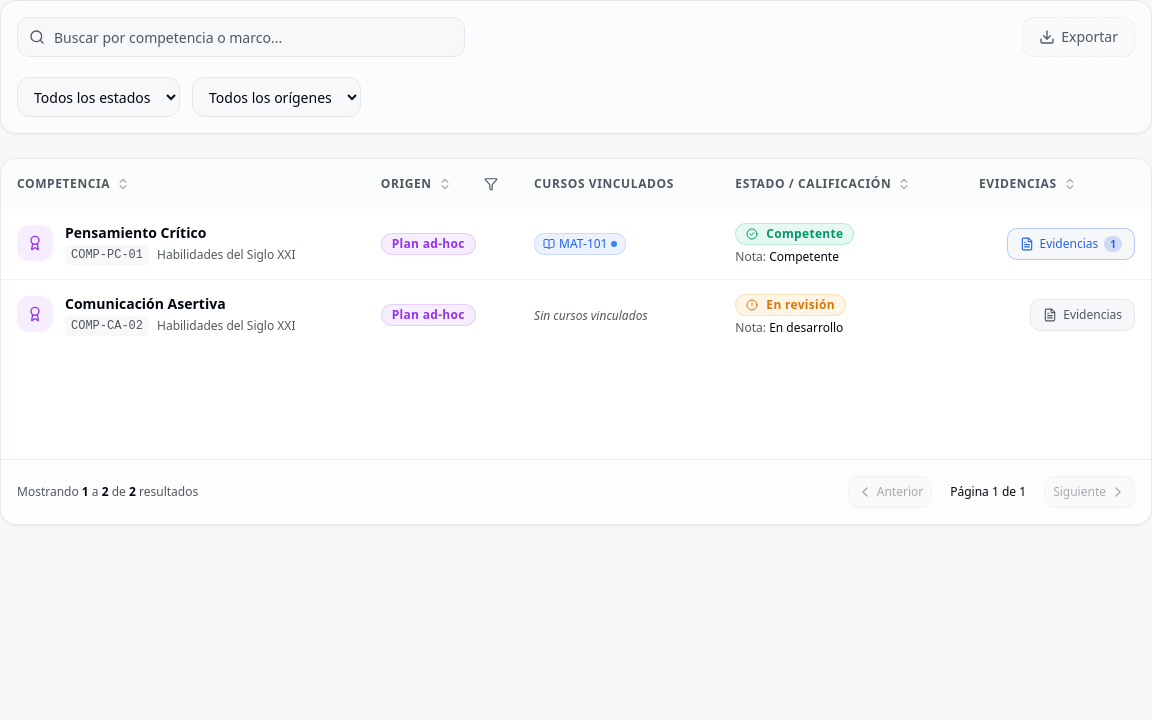
Test: Refactor Vista Detalle de Usuario › UserCompetenciesTab muestra cursos vinculados, estado y permite abrir modal de evidencias
Expected: the text "MAT-101" is shown, top-left (559, 236), bottom-right (608, 252)
Expected: the text "Competente" is shown, top-left (735, 223), bottom-right (854, 245)
// Click para abrir modal con evidencias
Step 1. Click the button "Evidencias 1" → coordinates (1071, 244), box top-left (1006, 228), bottom-right (1135, 260)
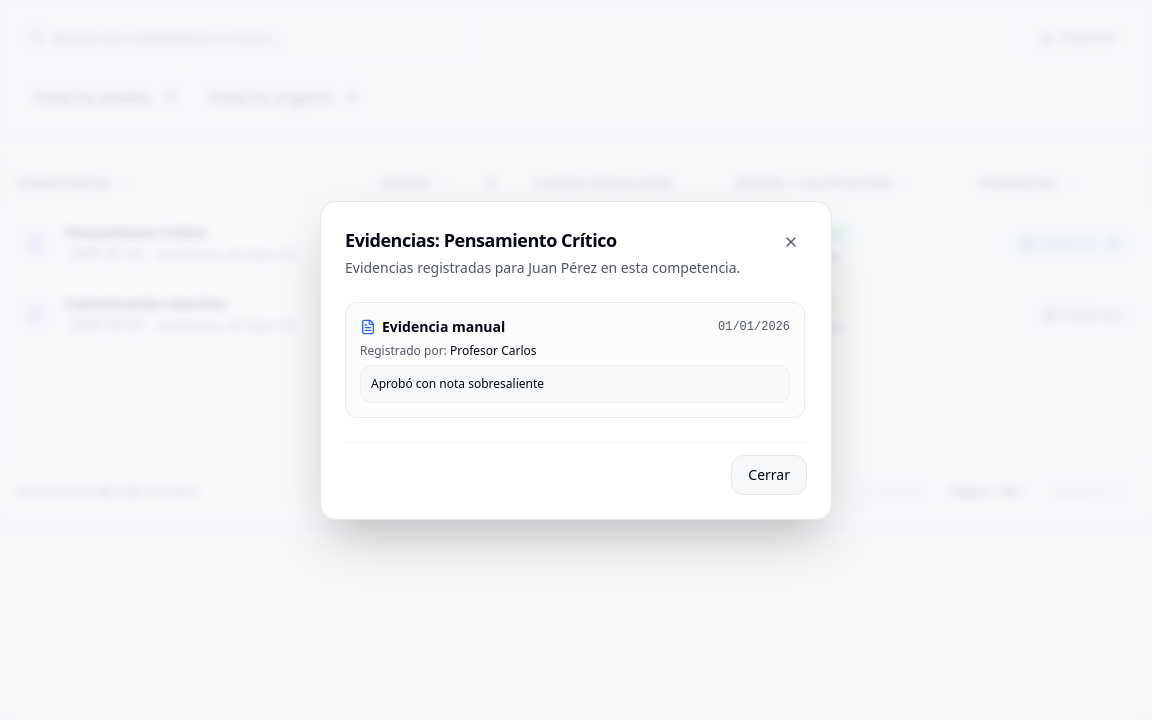
Expected: the text "Aprobó con nota sobresaliente" is shown, top-left (360, 364), bottom-right (790, 402)
Expected: the text "Profesor Carlos" is shown, top-left (450, 342), bottom-right (536, 358)
// Cerrar modal
Step 2. Click the button "Cerrar" → coordinates (769, 474), box top-left (731, 454), bottom-right (807, 494)
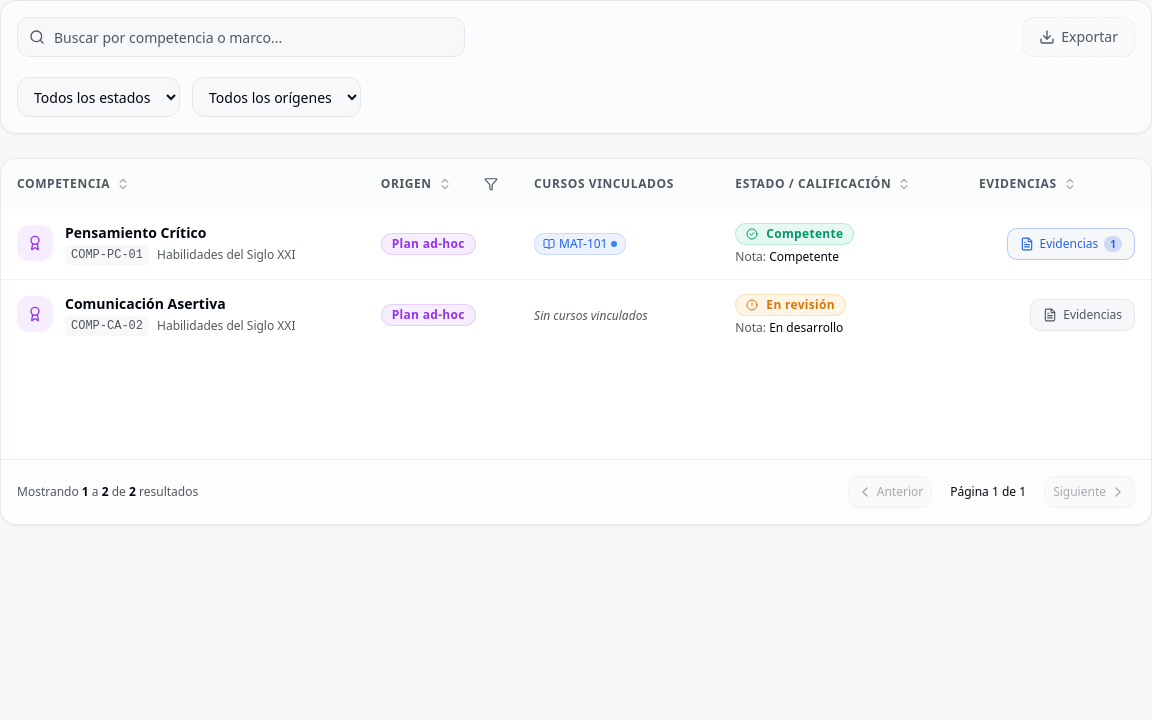
Expected: the number of buttons "Evidencias 1" is 2
Step 3. Click the button "Evidencias" → coordinates (1083, 315), box top-left (1030, 299), bottom-right (1135, 331)
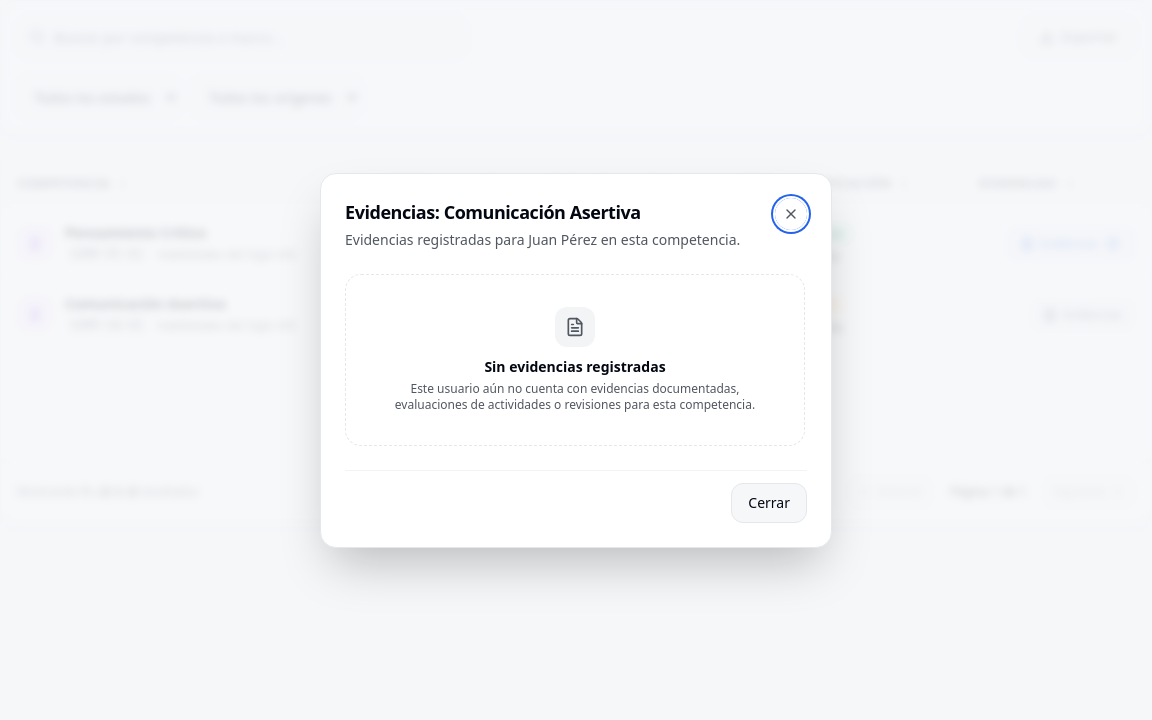
Expected: the text "Sin evidencias registradas" is shown, top-left (484, 356), bottom-right (666, 376)
